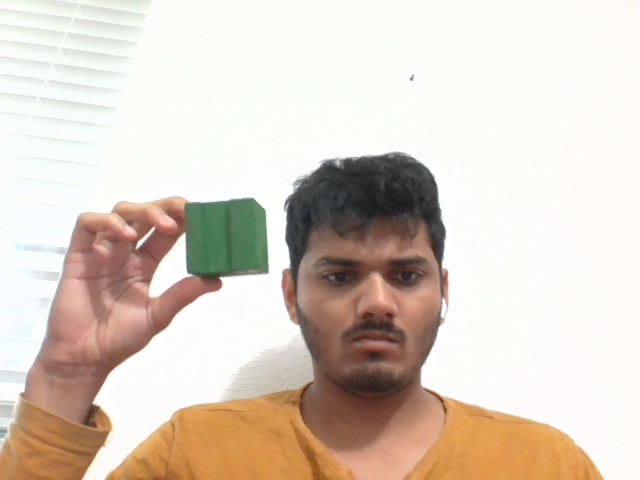GreenBlock: (182, 199, 272, 276)
